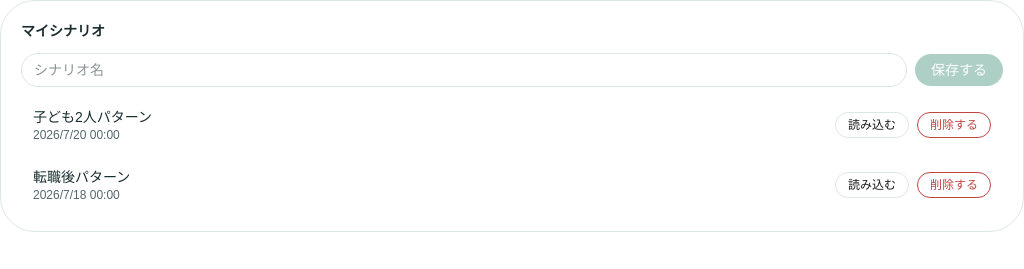
Test: 削除中・削除失敗時の表示 - 処理中の行は再押下できず、失敗が分かる表示をする › 削除に失敗した場合、その行に失敗が分かる表示が出ること
The image size is (1024, 269).
Click the button "削除する" in the row of "子ども2人パターン": coordinates (954, 125) [917,112,991,138]
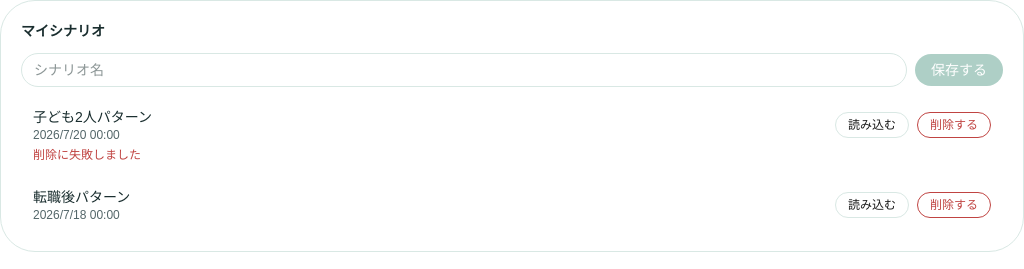
Result: the text "削除に失敗しました" is shown at [33,148,141,162]
